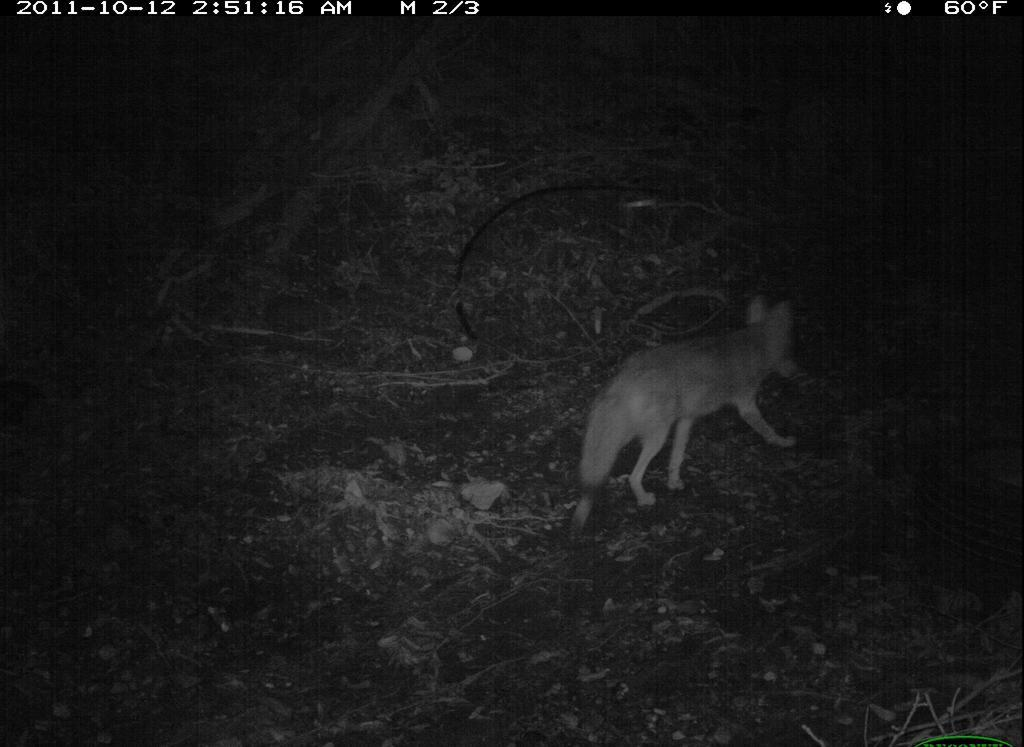coyote: (565, 281, 806, 538)
